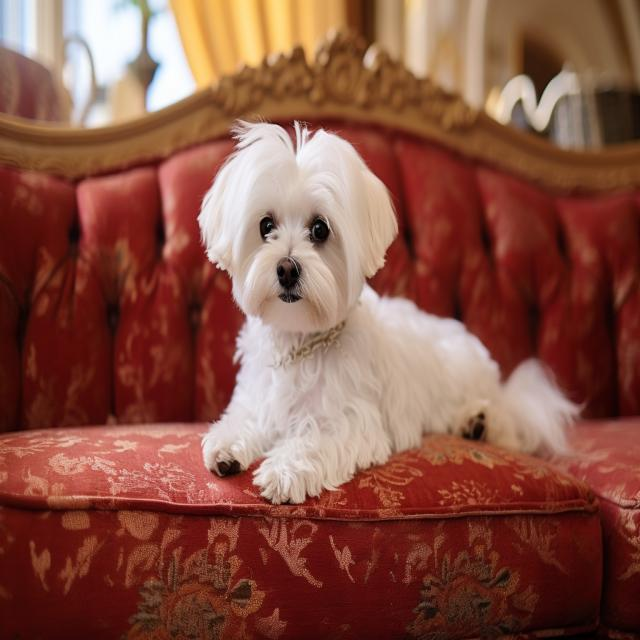maltese: (200, 122, 571, 504)
